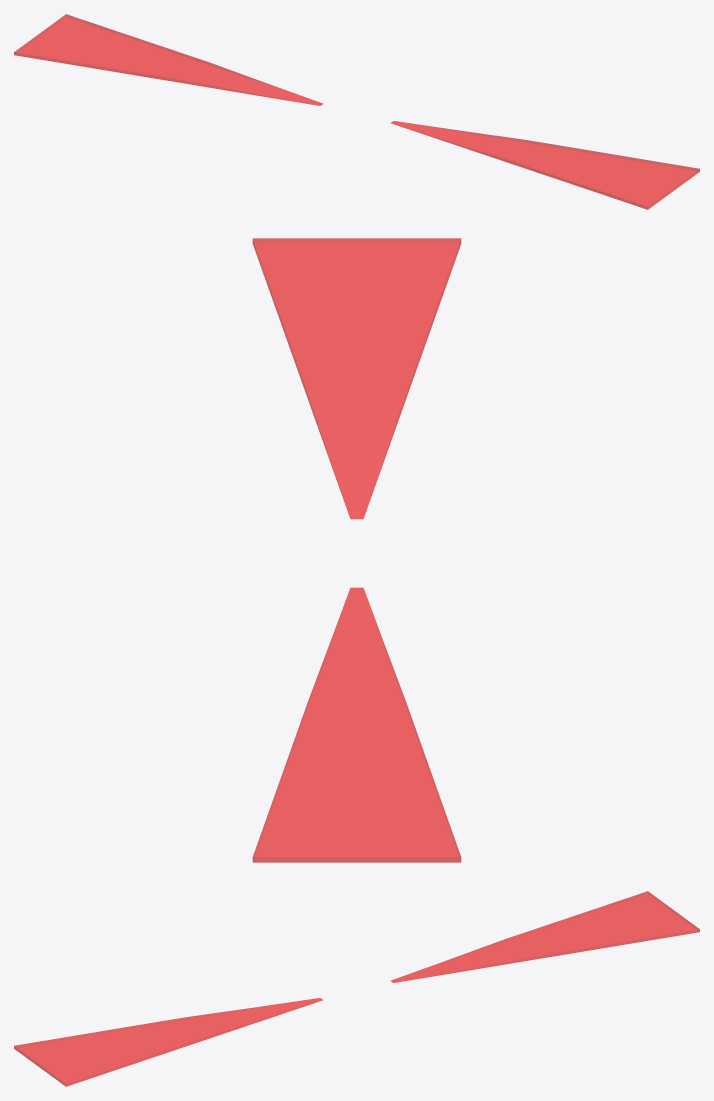
File: 4近进面.obj
3 views of the same model, one above another, from view 1: azimuth 30°, elevation 25°; view 2: azimuth 150°, elevation 25°; view 3: azimuth 270°, elevation 25° (orthographic). The views are drawn at different scales.
Visible parts, largest first — view 1: 4______; view 2: 4______; view 3: 4______.
Boxes of the visible parts, <box> form: 4______: <box>14,14,699,209</box>; 4______: <box>252,238,461,862</box>; 4______: <box>14,891,699,1086</box>.
Size of the model in its own units: 2101642 by 15000 by 3160152.
